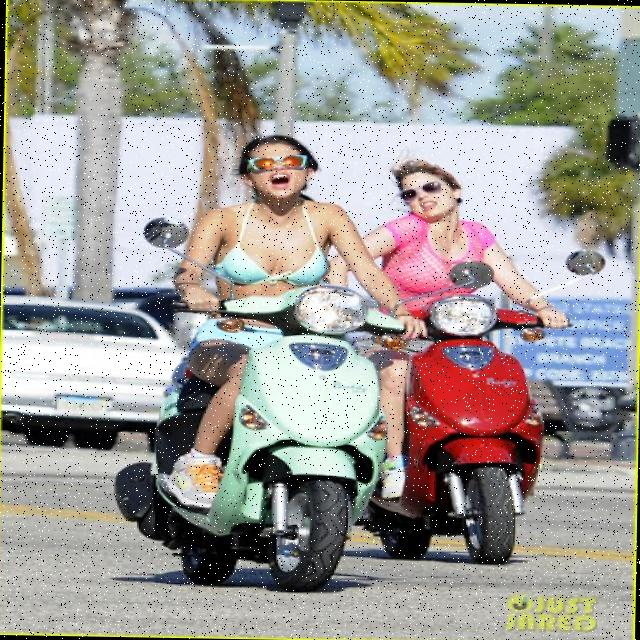No helmet: (231, 122, 321, 207), (388, 160, 478, 236)
